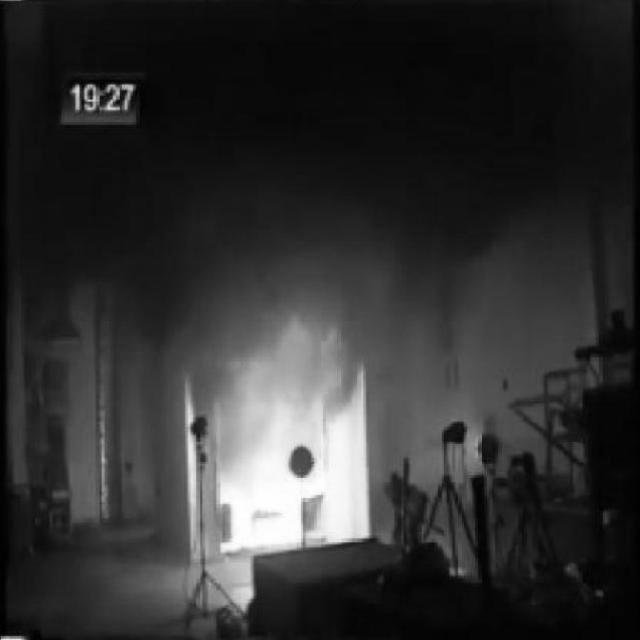smoke: (210, 304, 352, 550)
